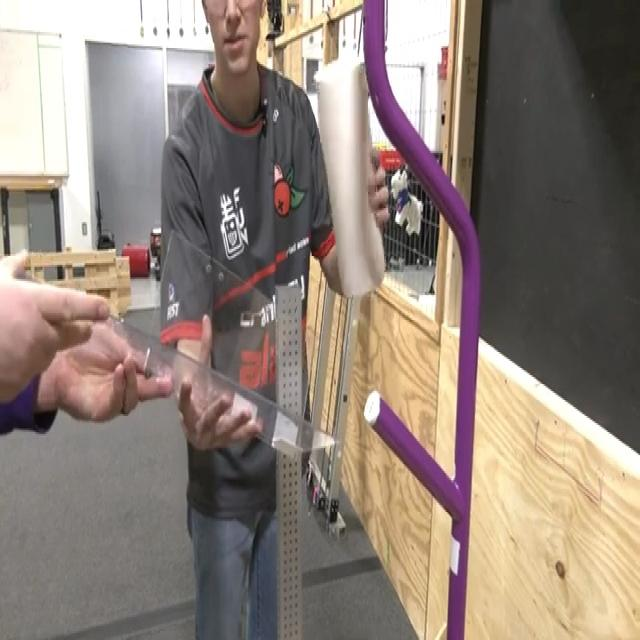Coral: (315, 51, 386, 297)
